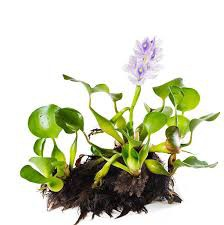water_hyacinth: (18, 73, 220, 201)
